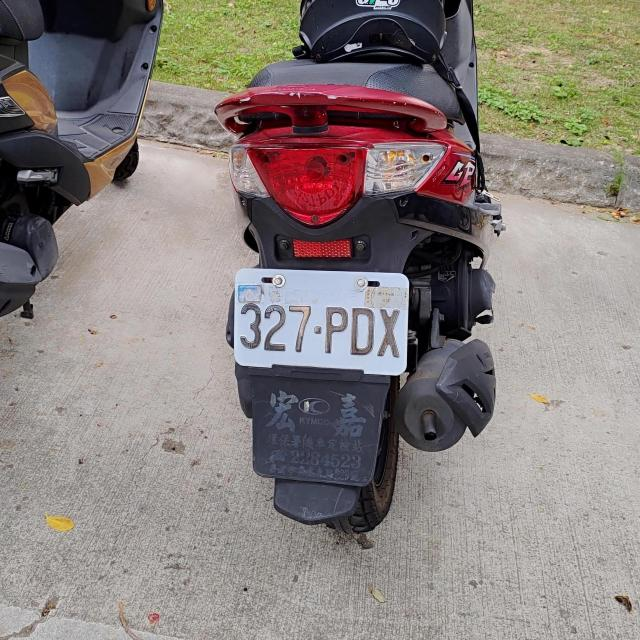W: (233, 269, 410, 375)
